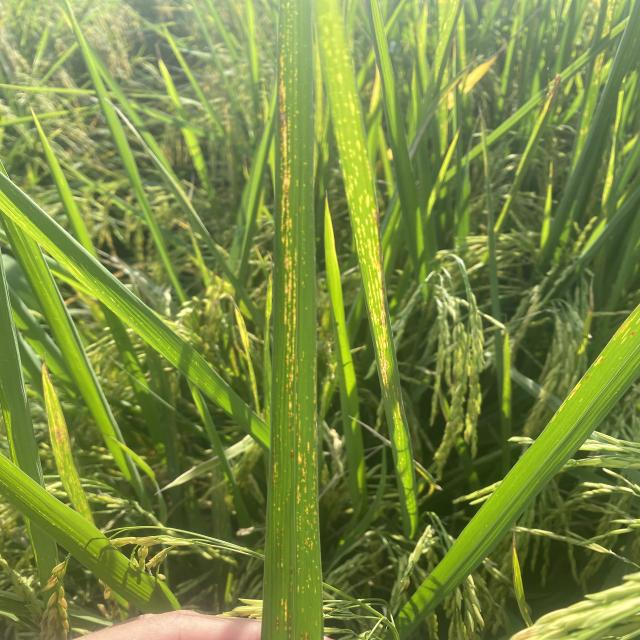Dom soc vi khuan: (377, 291, 388, 385), (280, 89, 290, 192), (291, 300, 296, 348), (288, 272, 292, 302), (296, 485, 301, 504), (373, 308, 377, 326), (299, 421, 301, 443)
